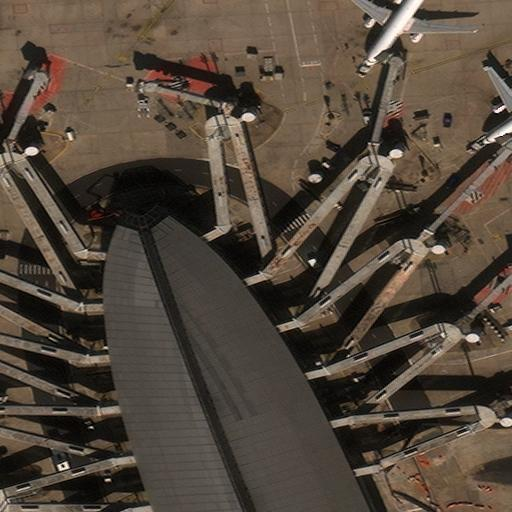Medium Civil Transport: (344, 0, 476, 64), (483, 69, 511, 143)
